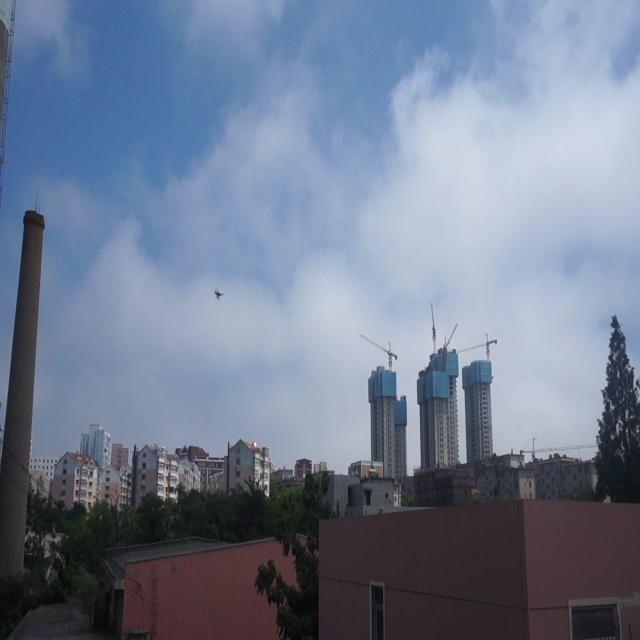drone: (211, 284, 226, 302)
